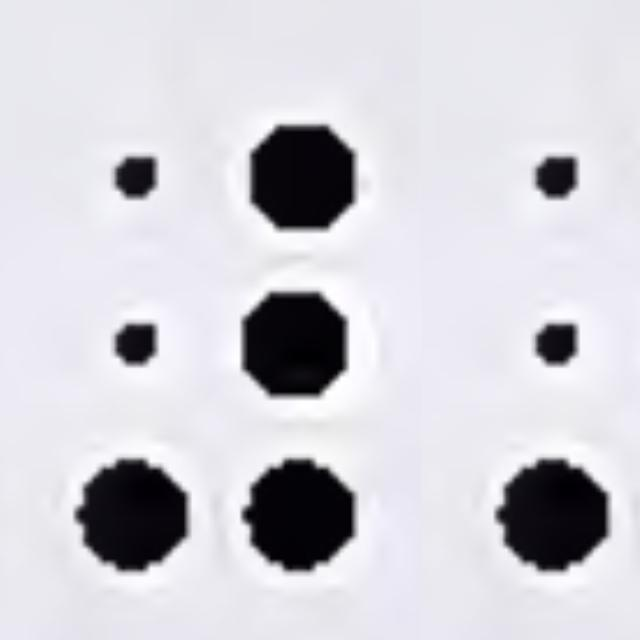at: (75, 119, 356, 572)
